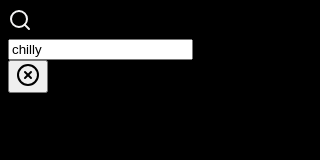
Test: SearchField › Escape clears a controlled field
Click the search field at (100, 50), box top-left (8, 39), bottom-right (193, 60)
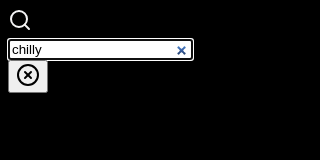
Press Escape
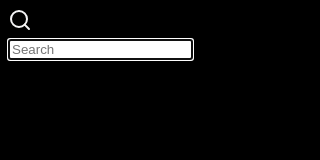
expect the search field is empty: met, box top-left (8, 39), bottom-right (193, 60)
